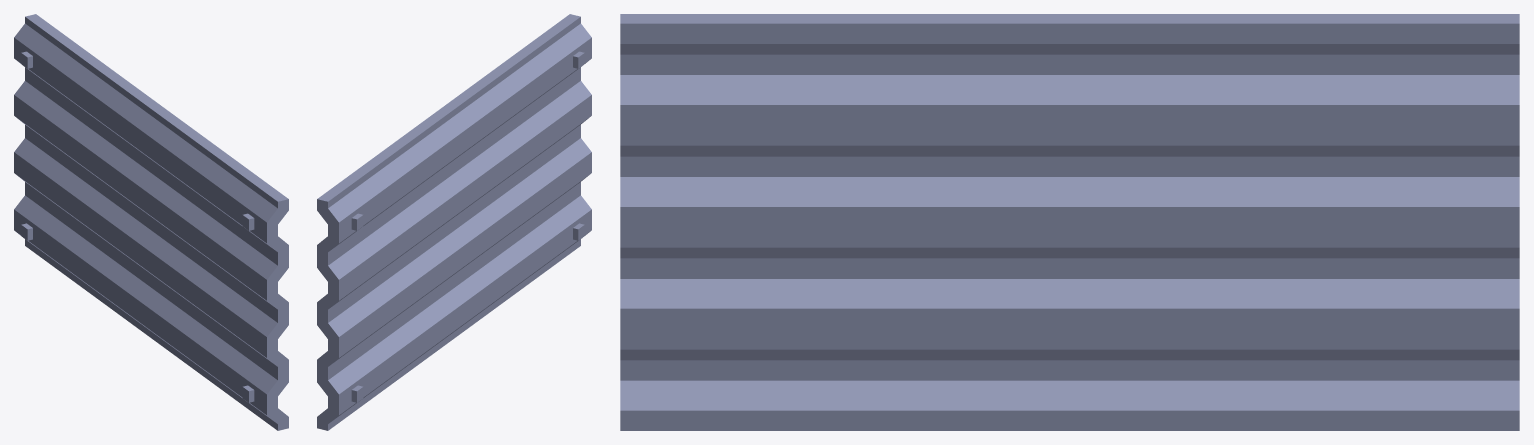
Rendered from plating-detailed-wide.obj.
The picture shows the model from 3 angles, left to right: view 1: azimuth 30°, elevation 25°; view 2: azimuth 150°, elevation 25°; view 3: azimuth 270°, elevation 25°; orthographic projection. The views are drawn at different scales.
Bounding box in the file's own units: 0.125 × 1 × 2.
